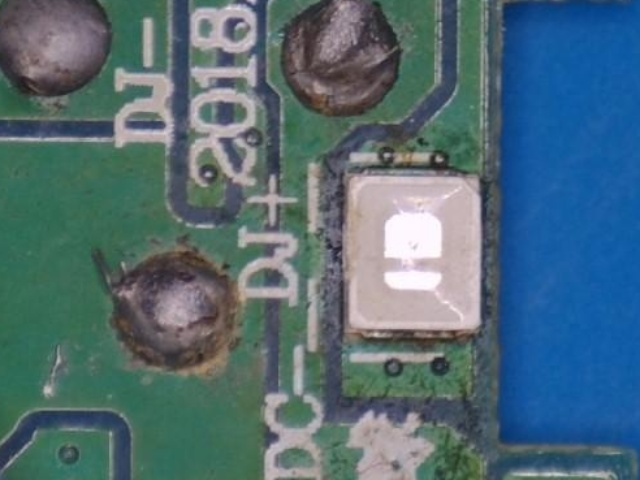pcb_defect: (115, 250, 235, 371), (282, 0, 402, 116), (0, 0, 111, 95)
